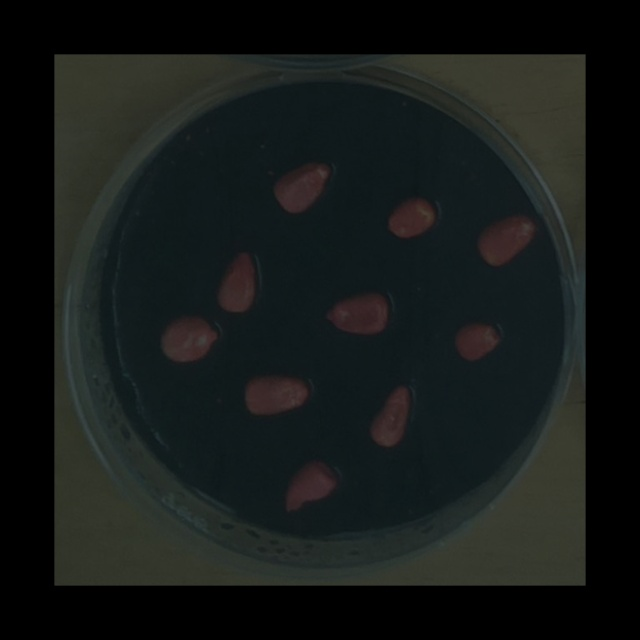Zea mays: (470, 206, 543, 272), (266, 153, 339, 218), (318, 282, 395, 341), (237, 366, 316, 422), (279, 451, 345, 516), (155, 308, 225, 368), (362, 377, 418, 451), (210, 242, 263, 319), (380, 187, 442, 244), (447, 314, 505, 364)
